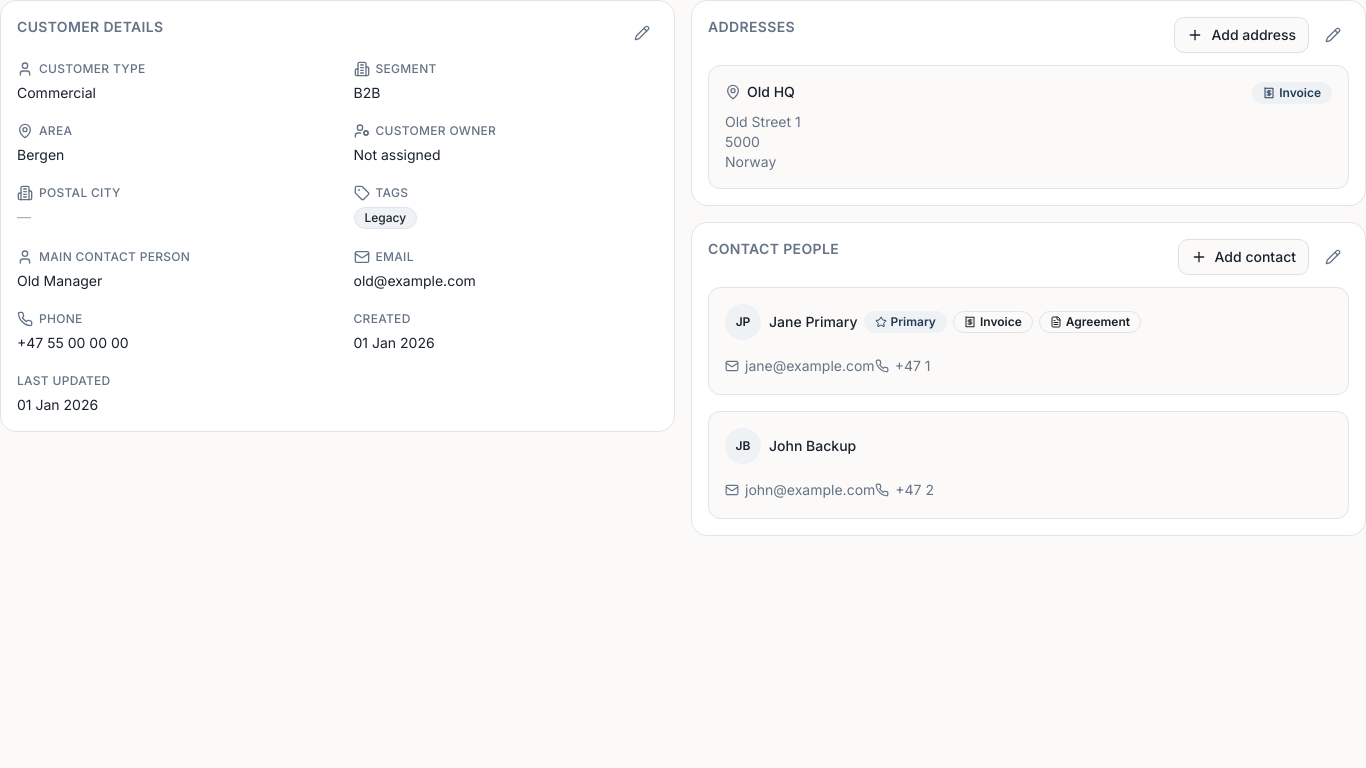
Scenario: CORE-WRITES-CUSTOMERS-A1.2.1 ContactInformationTab › keeps details edit mode open and shows an inline error when Supabase update fails
Click the button named "edit customer details": (642, 33) [626,17,658,49]
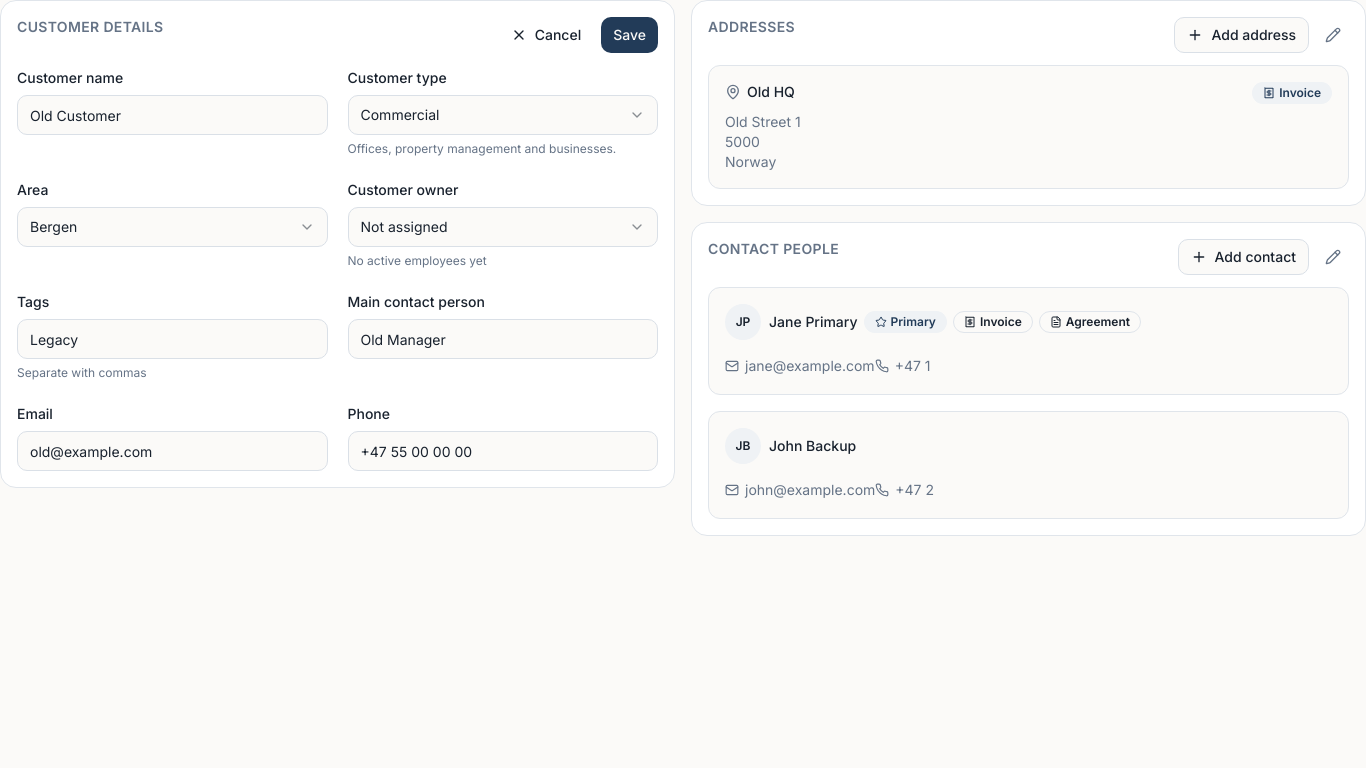
Replace the text in the field showing "Old Customer" below "Customer name" with "Broken Customer": (172, 115) [17,95,328,135]
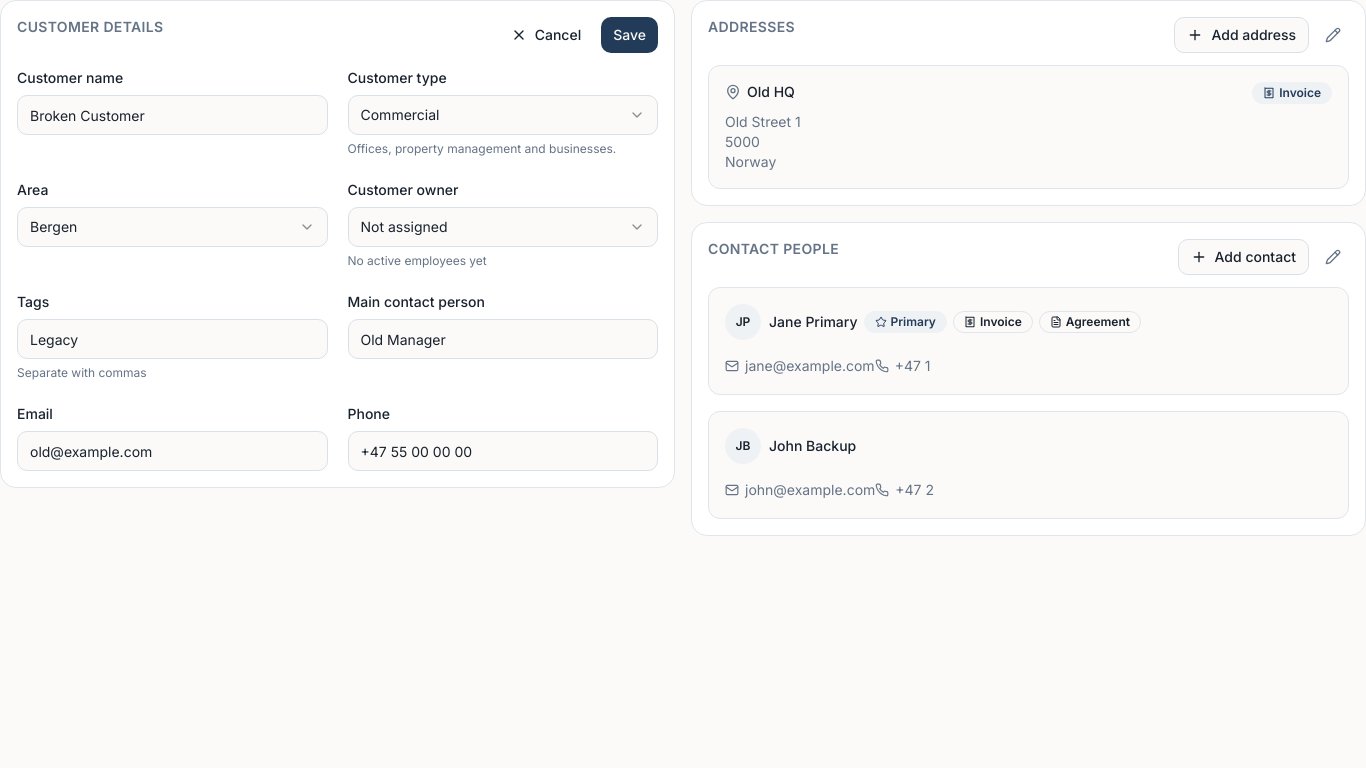
Click the button "Save": (630, 35) [601,17,658,53]
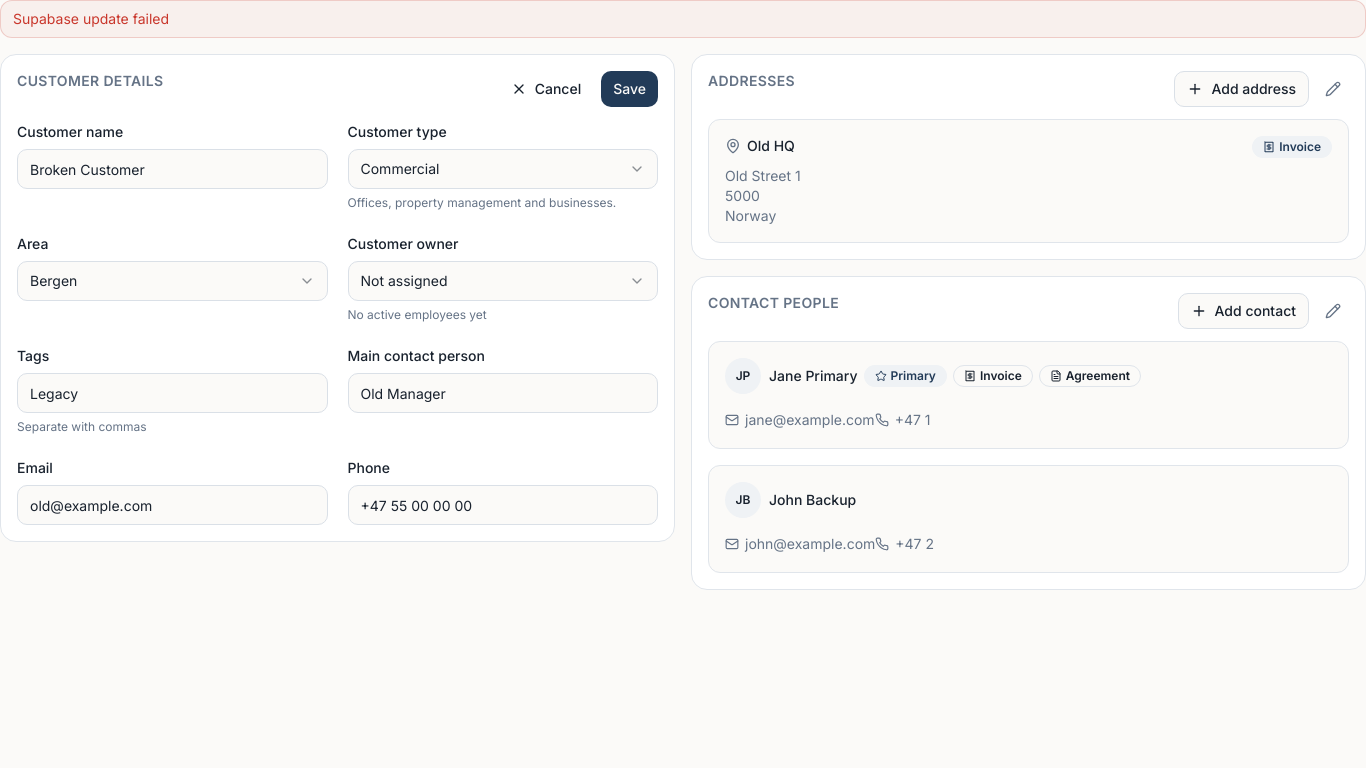
Result: the text "Supabase update failed" is shown at [0,0,1365,38]
